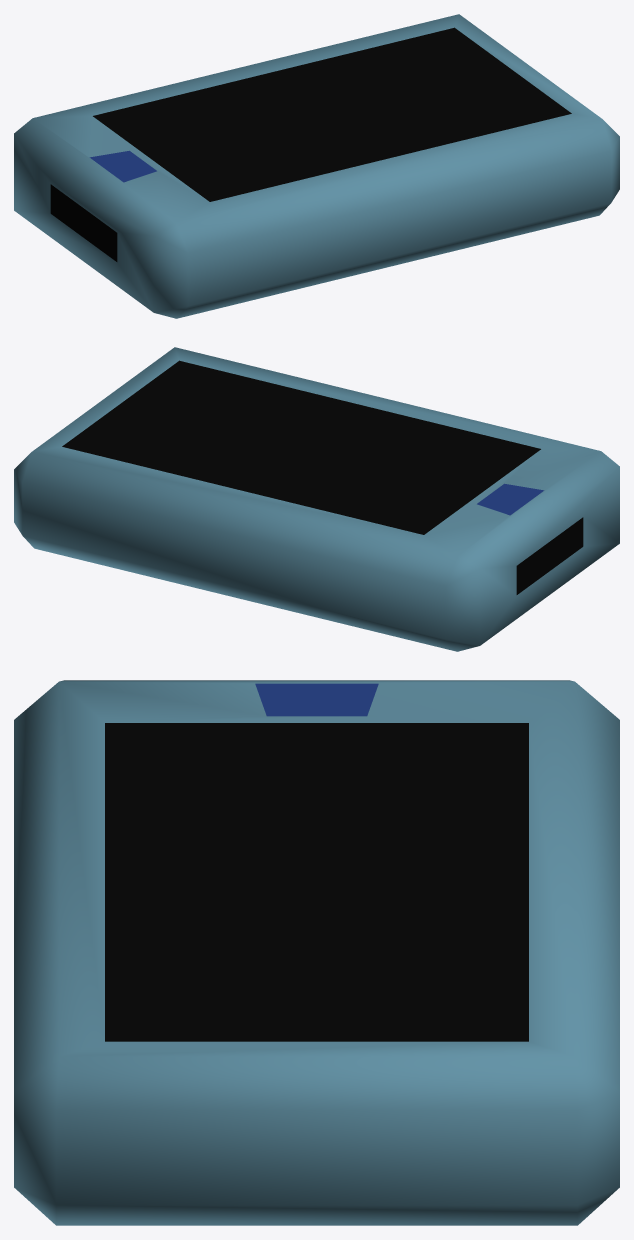
Rendered from phone.glb.
3 renders of one model, top to bottom at view 1: azimuth 30°, elevation 25°; view 2: azimuth 150°, elevation 25°; view 3: azimuth 270°, elevation 25°, orthographic. The views are drawn at different scales.
Visible parts, largest first — view 1: phone; view 2: phone; view 3: phone.
Boxes of the visible parts, box(x1,y1,x2,y2) form: phone: box(14, 14, 619, 318); phone: box(14, 347, 619, 651); phone: box(14, 680, 619, 1225).
Size of the model in its own units: 0.114 by 0.0224 by 0.0716.
